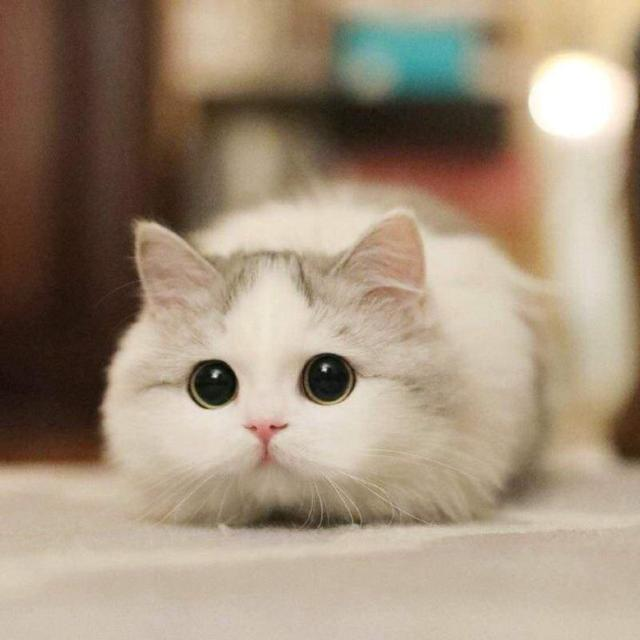Cat: (97, 208, 472, 518)
